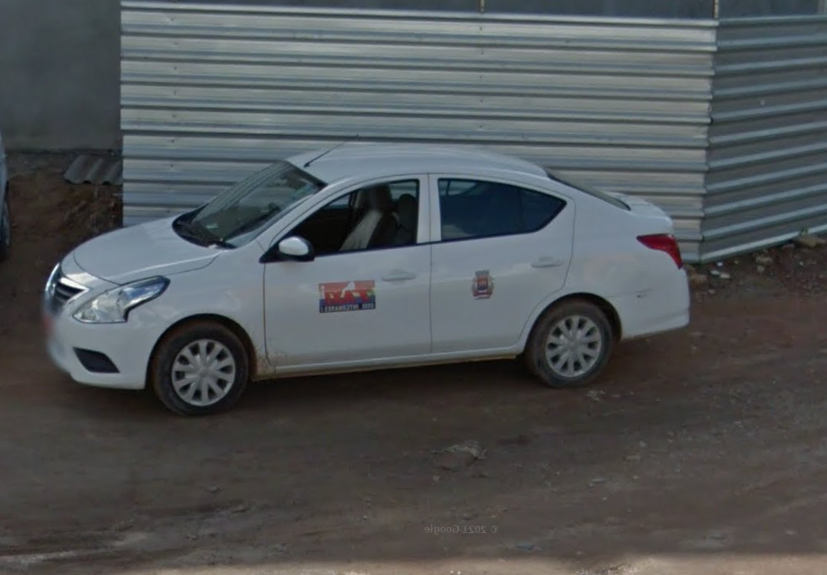car: (36, 129, 695, 424)
